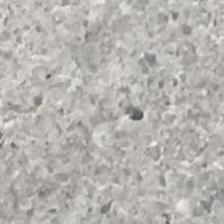Non_Crack: (13, 15, 208, 210)
